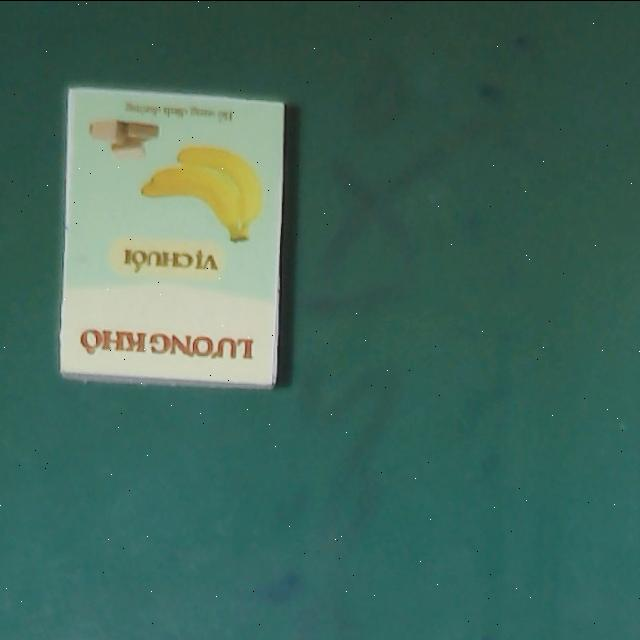chuoi: (58, 87, 284, 388)
